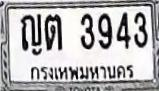3: (79, 13, 94, 49), (133, 11, 147, 47)
4: (116, 11, 130, 48)
9: (97, 12, 111, 48)
A13: (19, 13, 42, 57)
A21: (44, 14, 62, 49)
BKK: (26, 62, 138, 82)
